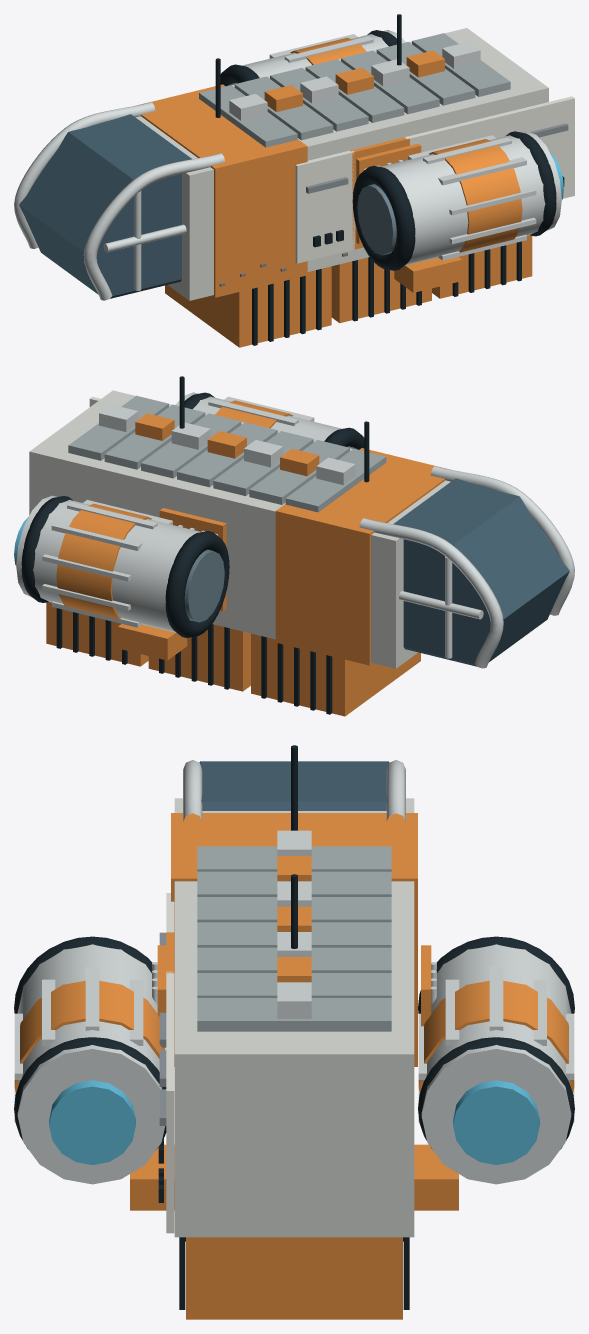
The model's file is ship-freighter.glb.
The picture shows the model from 3 angles, top to bottom: view 1: azimuth 30°, elevation 25°; view 2: azimuth 150°, elevation 25°; view 3: azimuth 270°, elevation 25°; orthographic projection. The views are drawn at different scales.
Parts seen in each view (by area): view 1: hull, cockpit, engine-right, cargo-0, cargo-1, engine-left, cargo-2; view 2: hull, cockpit, engine-left, cargo-0, cargo-1, engine-right, cargo-2; view 3: hull, engine-left, engine-right, cargo-2, exhaust (×2), cockpit.
Boxes of the visible parts, bbox=[...] form: hull: bbox=[136, 14, 574, 300]; cockpit: bbox=[14, 102, 225, 300]; engine-right: bbox=[352, 131, 561, 270]; cargo-0: bbox=[165, 266, 331, 347]; cargo-1: bbox=[331, 257, 431, 323]; engine-left: bbox=[220, 30, 405, 86]; cargo-2: bbox=[432, 235, 532, 298]; hull: bbox=[29, 376, 450, 668]; cockpit: bbox=[359, 466, 574, 668]; engine-left: bbox=[16, 495, 229, 637]; cargo-0: bbox=[251, 633, 420, 716]; cargo-1: bbox=[148, 624, 250, 691]; engine-right: bbox=[175, 392, 364, 449]; cargo-2: bbox=[46, 602, 148, 666]; hull: bbox=[130, 745, 458, 1241]; engine-left: bbox=[418, 936, 574, 1184]; engine-right: bbox=[14, 936, 166, 1184]; cargo-2: bbox=[179, 1237, 409, 1319]; exhaust (×2): bbox=[49, 1080, 539, 1164]; cockpit: bbox=[183, 760, 405, 821].
Size of the model in its own units: 5.43 by 2.77 by 3.75.
